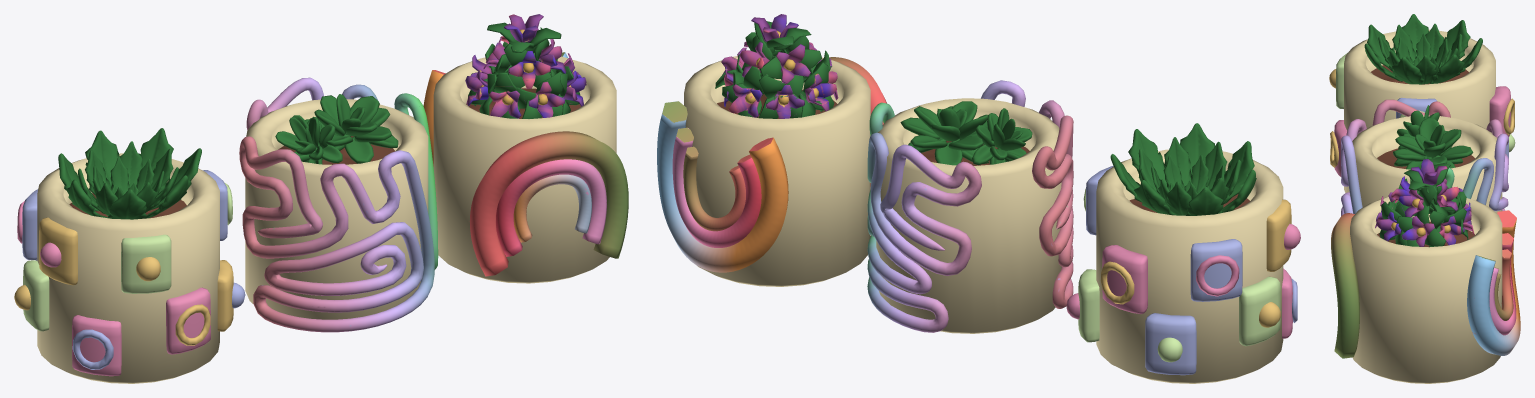
File: claypots.fbx
3 views of the same model, side by side, from view 1: azimuth 30°, elevation 25°; view 2: azimuth 150°, elevation 25°; view 3: azimuth 270°, elevation 25° (orthographic). The views are drawn at different scales.
Visible parts, largest first — view 1: pot3, pot2, pot1; view 2: pot1, pot2, pot3; view 3: pot1, pot3, pot2.
Boxes of the visible parts, x1=… form: pot3: x1=14, y1=128, x2=245, y2=383; pot2: x1=239, y1=77, x2=438, y2=332; pot1: x1=423, y1=14, x2=628, y2=283; pot1: x1=657, y1=14, x2=886, y2=286; pot2: x1=867, y1=80, x2=1073, y2=333; pot3: x1=1066, y1=123, x2=1300, y2=383; pot1: x1=1331, y1=159, x2=1520, y2=383; pot3: x1=1329, y1=14, x2=1515, y2=192; pot2: x1=1341, y1=99, x2=1508, y2=215.
Size of the model in its own units: 738 by 273 by 251.
Materials: 10 (3 with a texture image).
